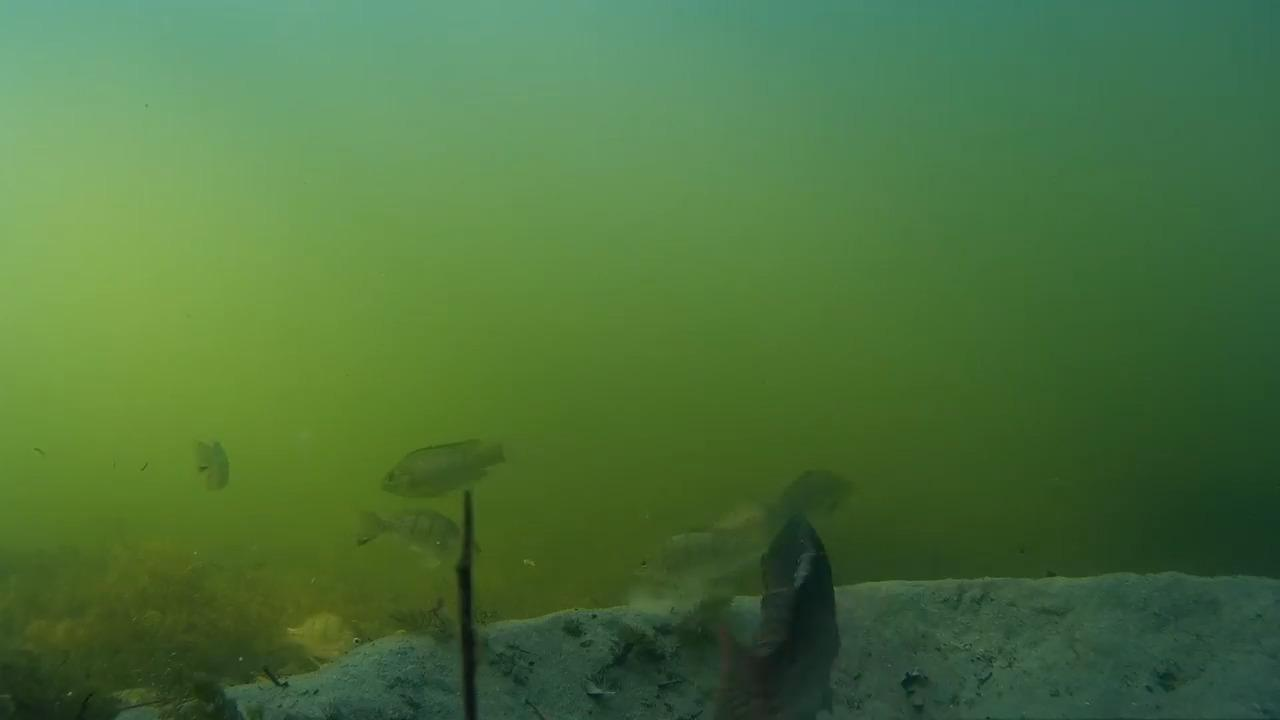Tilapia: (334, 508, 519, 594), (350, 420, 519, 502), (634, 510, 783, 596), (776, 474, 873, 532), (186, 448, 253, 498)
